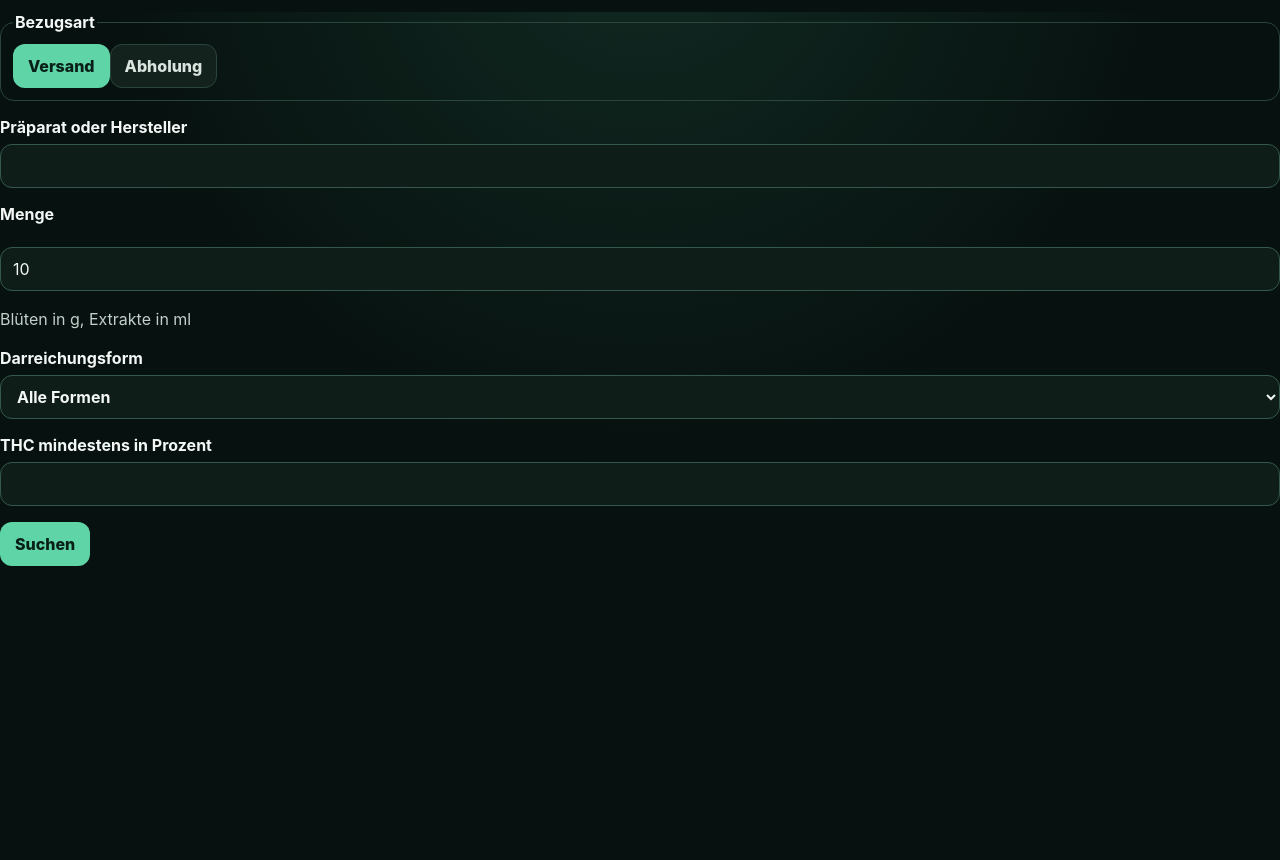
searches test offers and shows transparent totals
Type "Alpha" into the search field at point(640, 166), box [0,144,1279,188]
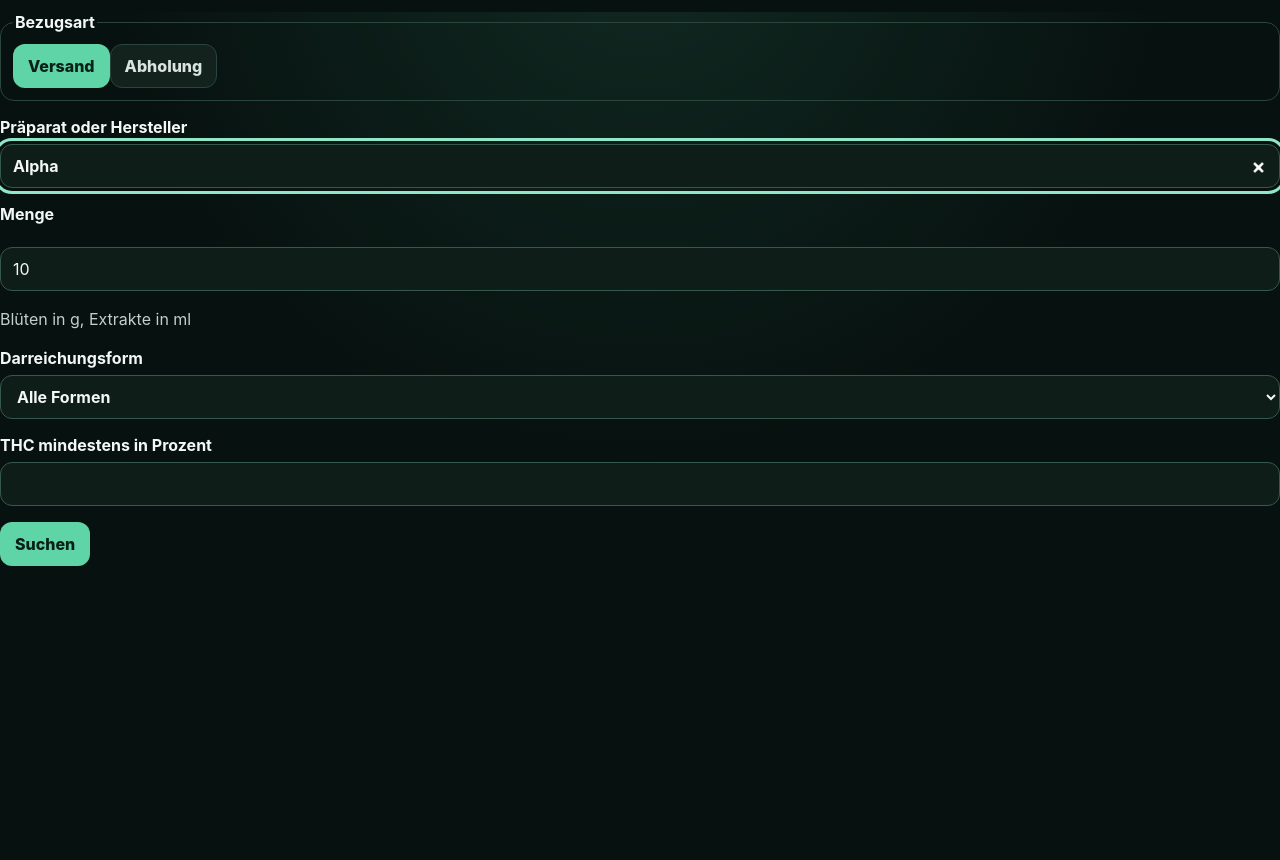
Click the button "Suchen" at point(45, 544), box [0,522,90,566]
(page scrolled)
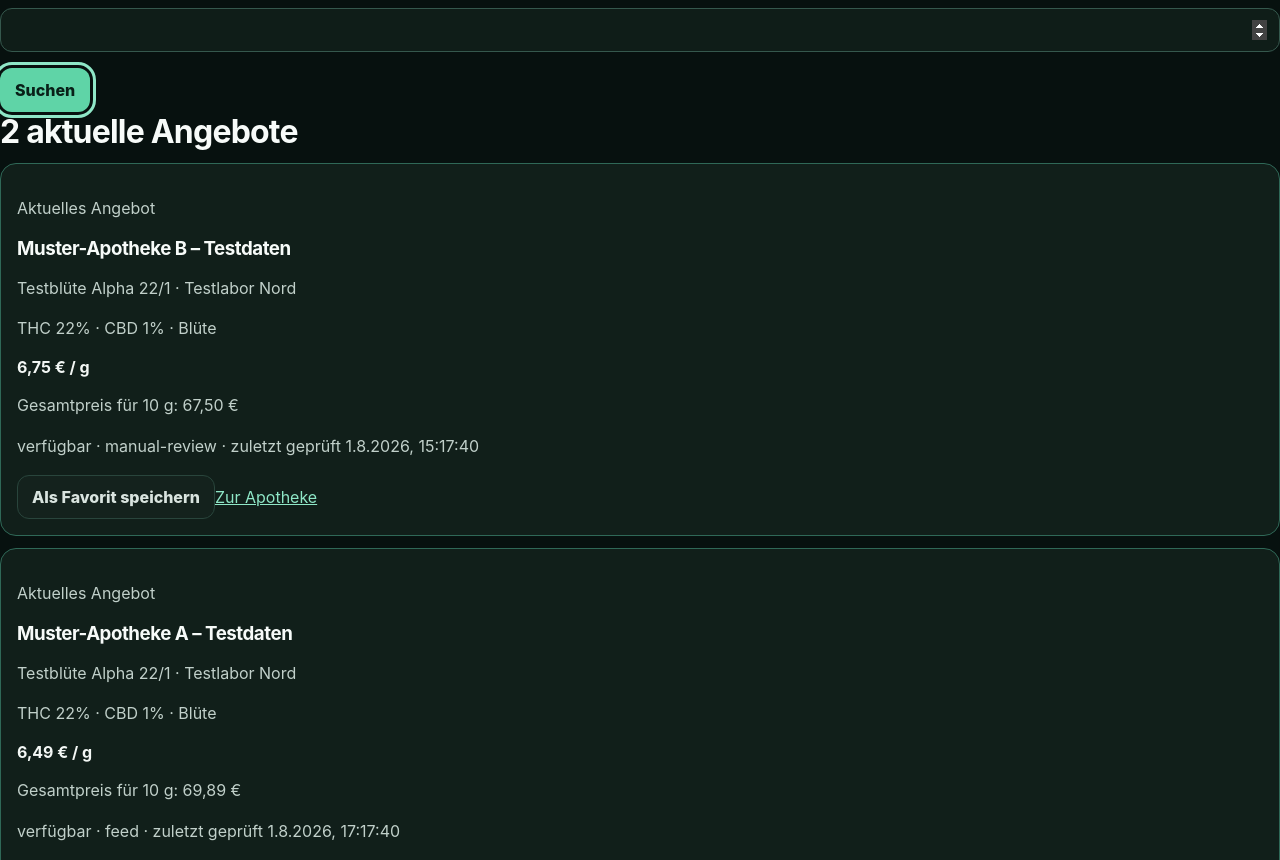
Now the text "Gesamtpreis für 10 g: 67,50 €" is shown, box [17,395,239,415]
Now the text "zuletzt geprüft" is shown, box [217,436,341,456]
